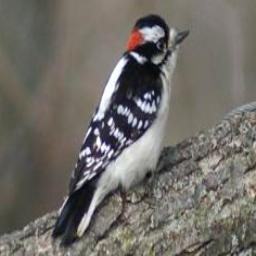Woodpecker: (48, 14, 189, 246)
